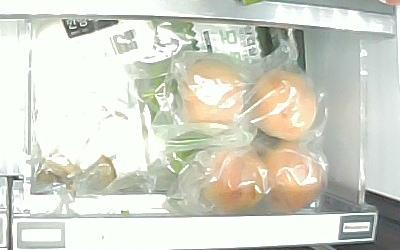peach_vinyl: (175, 58, 247, 128), (252, 68, 317, 141), (200, 145, 267, 213), (265, 148, 324, 211)
